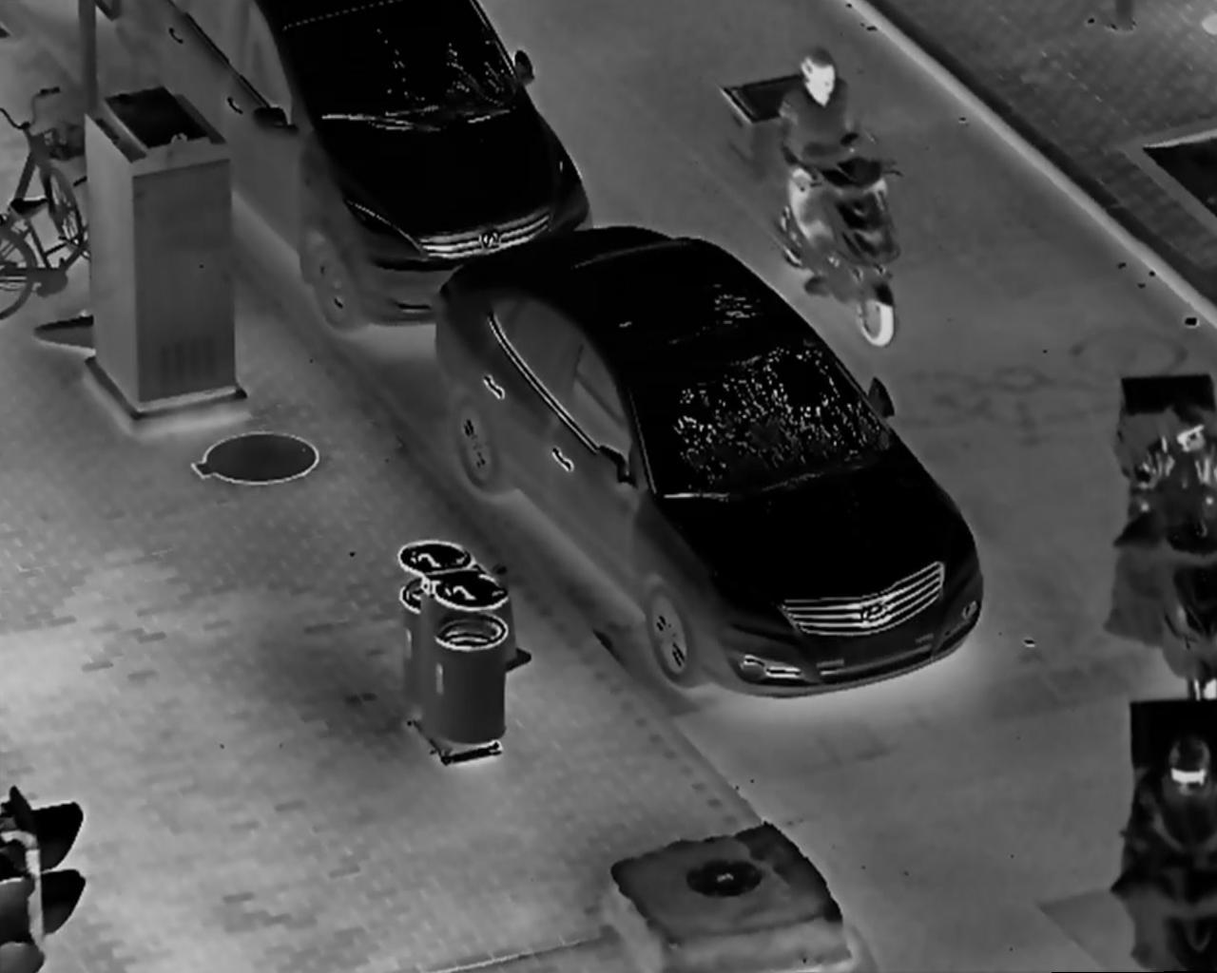person: (773, 40, 891, 286), (1119, 732, 1217, 949), (1131, 407, 1217, 599)
